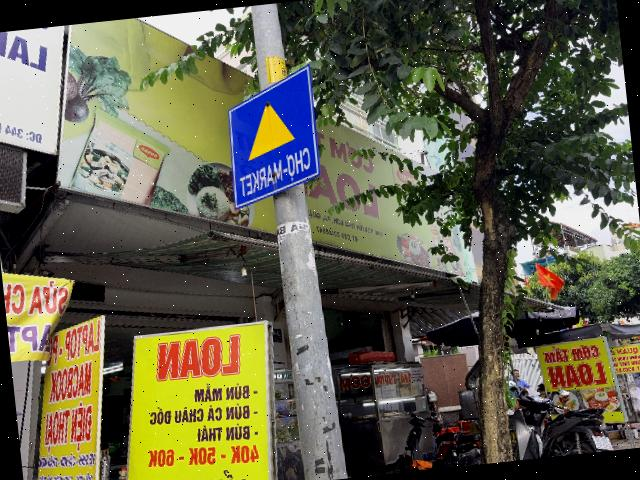khu-vuc-cho-phia-truoc: (220, 64, 324, 210)
